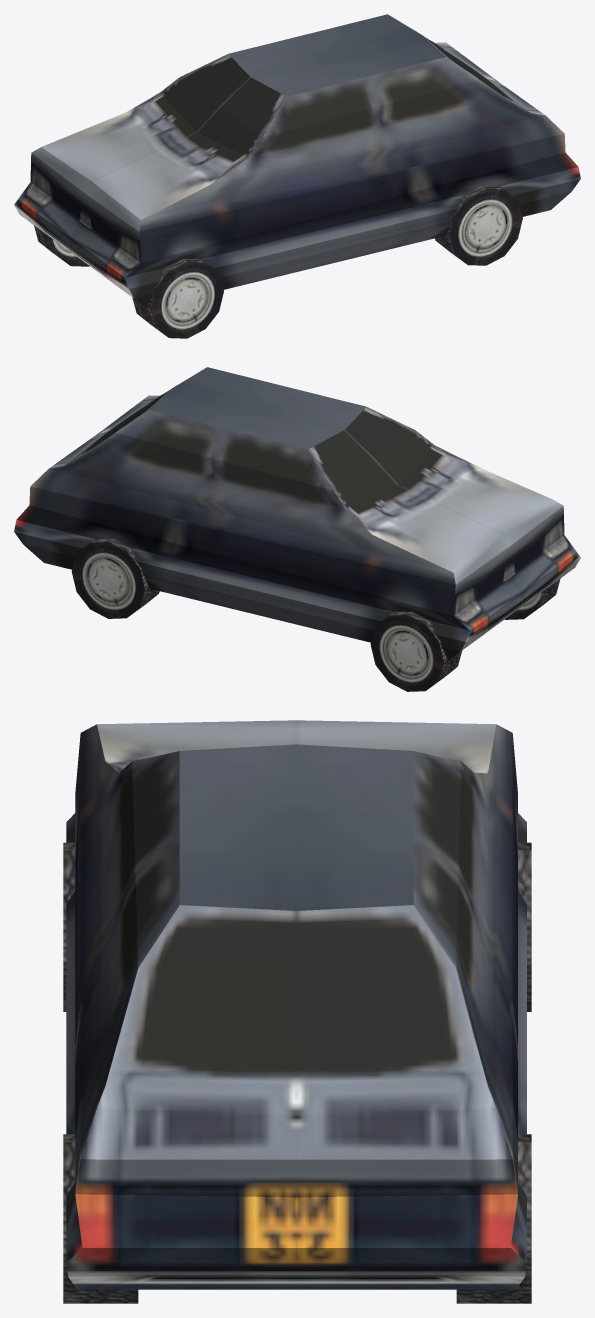
File: AutoPSX.glb
3 renders of one model, top to bottom at view 1: azimuth 30°, elevation 25°; view 2: azimuth 150°, elevation 25°; view 3: azimuth 270°, elevation 25°, orthographic. The views are drawn at different scales.
Parts seen in each view (by area): view 1: Cylinder.010; view 2: Cylinder.010; view 3: Cylinder.010.
Part boxes in pixels (box(x1,y1,x2,y2)): Cylinder.010: box(14, 14, 580, 338); Cylinder.010: box(14, 367, 580, 691); Cylinder.010: box(63, 720, 531, 1303).
Bounding box in the file's own units: 3.08 × 1.23 × 1.38.
Materials: 2 (2 with a texture image).
